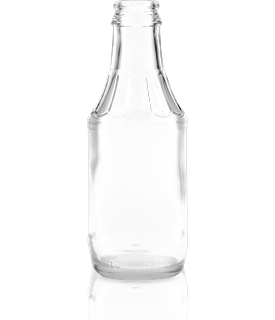glass_bottle: (83, 1, 194, 283)
